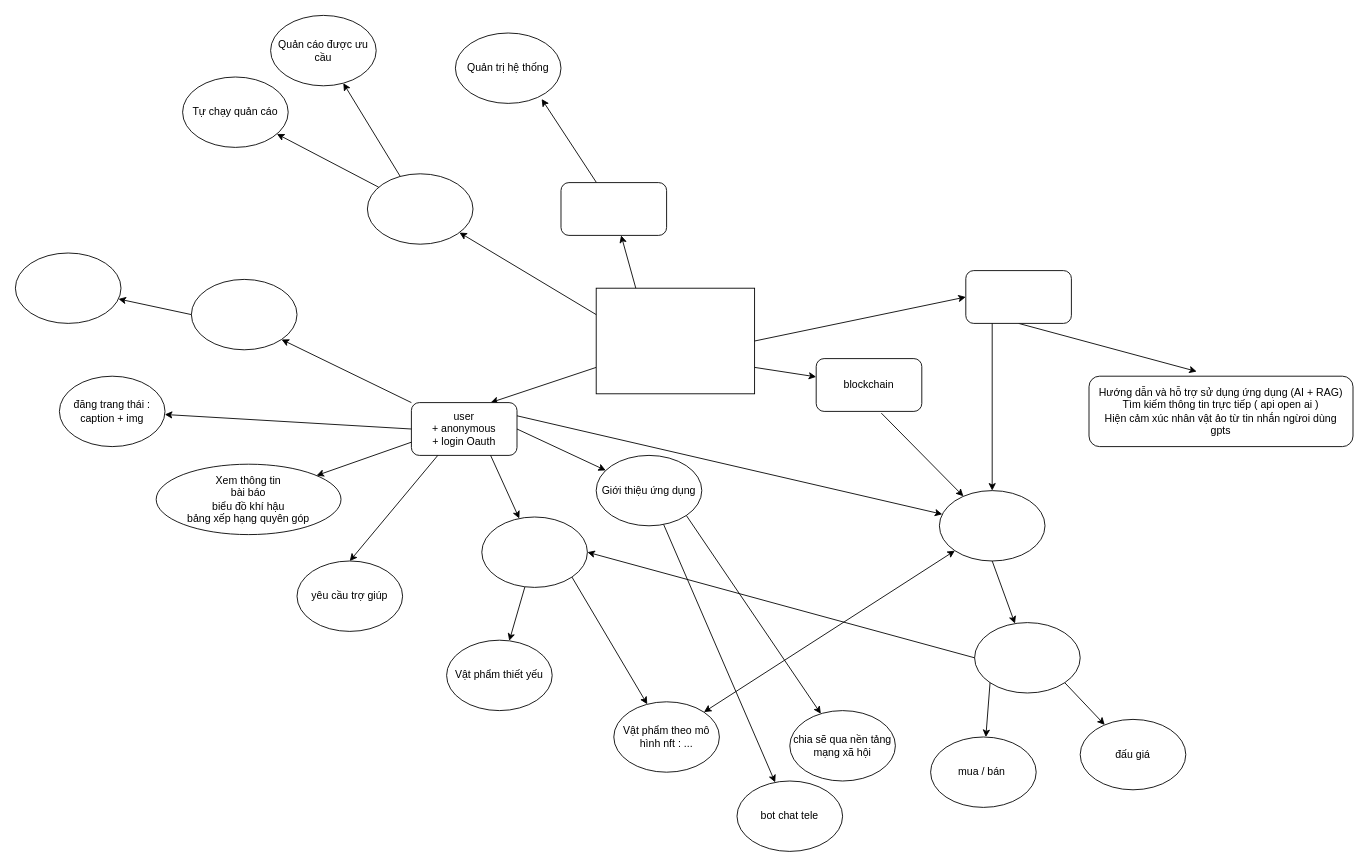
Some shapes in this 1368 by 867 pixel diagram are drawn without their labels. The box of each missing label's shape, as (x1, y1, x2, y2) in pixels:
admin: (560, 182, 667, 235)
AI: (965, 270, 1071, 323)
chạy quản cáo: (367, 173, 473, 244)
Giao dịch: (974, 622, 1080, 693)
Hội nhóm: (191, 279, 297, 350)
Quyên góp ủng hộ: (481, 516, 587, 587)
sản phẩm: (939, 490, 1045, 561)
Xây dựng hệ thống quản lí cung cấp vật tư cho vùng thiên tai: (595, 287, 755, 394)
